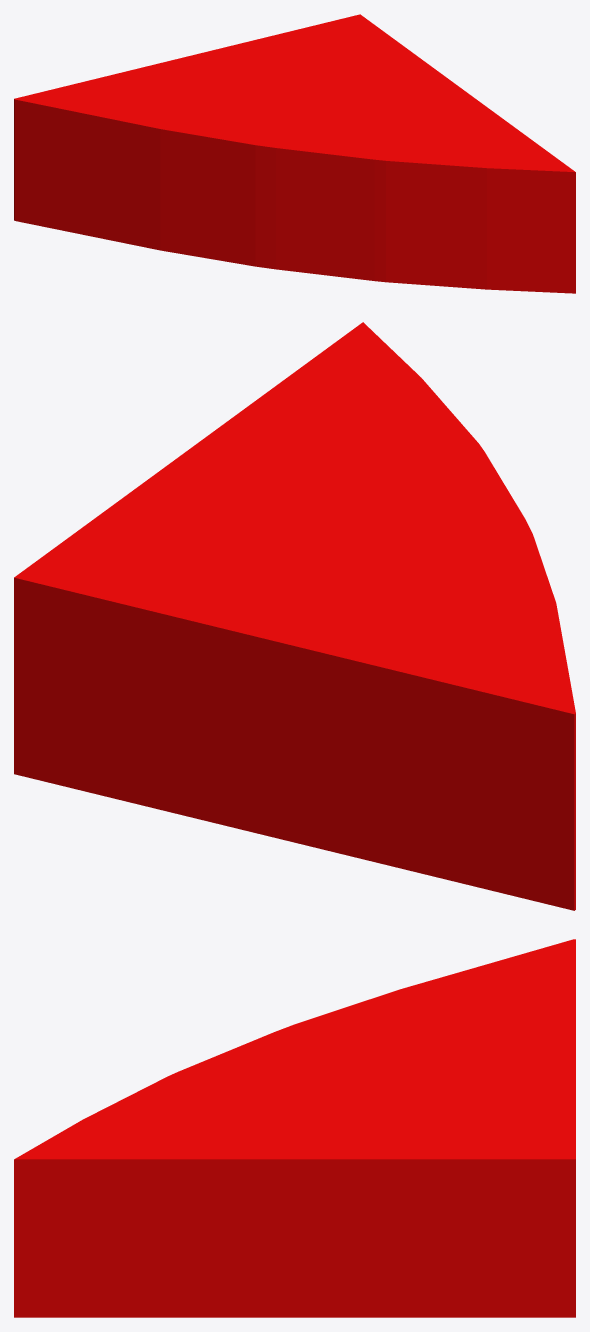
The model's file is pezzoTetris2.fbx.
The picture shows the model from 3 angles, top to bottom: view 1: azimuth 30°, elevation 25°; view 2: azimuth 150°, elevation 25°; view 3: azimuth 270°, elevation 25°; orthographic projection. The views are drawn at different scales.
Parts seen in each view (by area): view 1: Cube.001; view 2: Cube.001; view 3: Cube.001.
Part boxes in pixels (x1,y1,x2,y2): Cube.001: (14, 14, 575, 293); Cube.001: (14, 322, 575, 910); Cube.001: (14, 939, 575, 1317).
Bounding box in the file's own units: 58.24 × 19.52 × 62.83.
